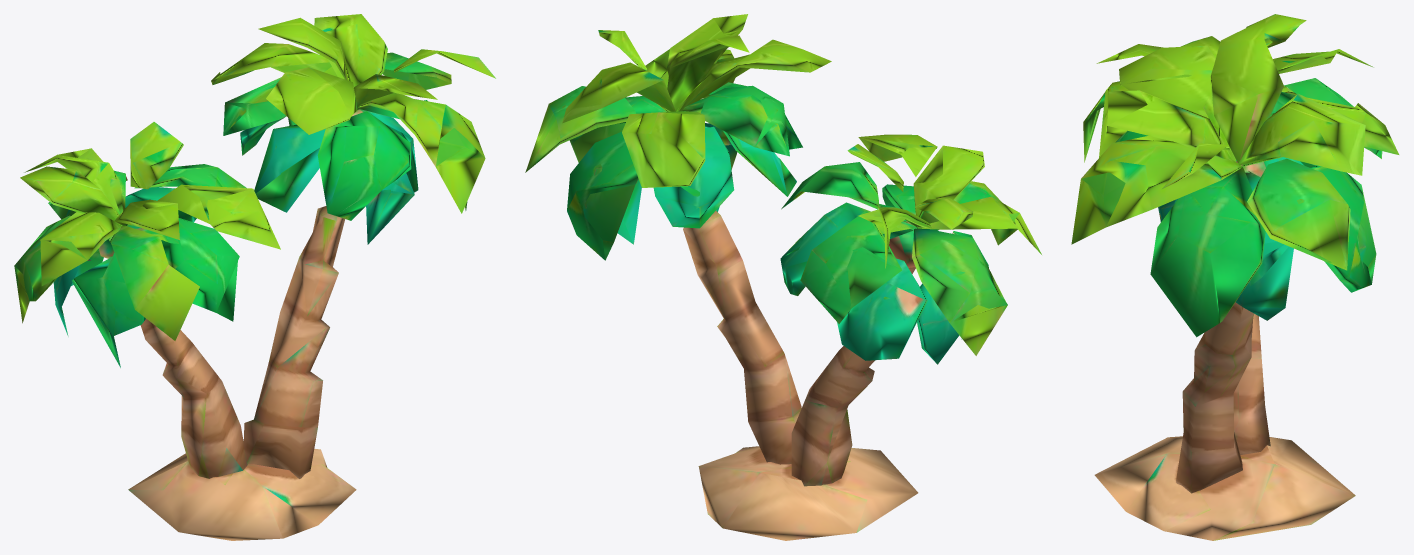
The model's file is palm_b.glb.
3 renders of one model, left to right at view 1: azimuth 30°, elevation 25°; view 2: azimuth 150°, elevation 25°; view 3: azimuth 270°, elevation 25°, orthographic. The views are drawn at different scales.
Bounding box in the file's own units: 0.9681 × 0.9266 × 0.5542.
Materials: 1 (1 with a texture image).
